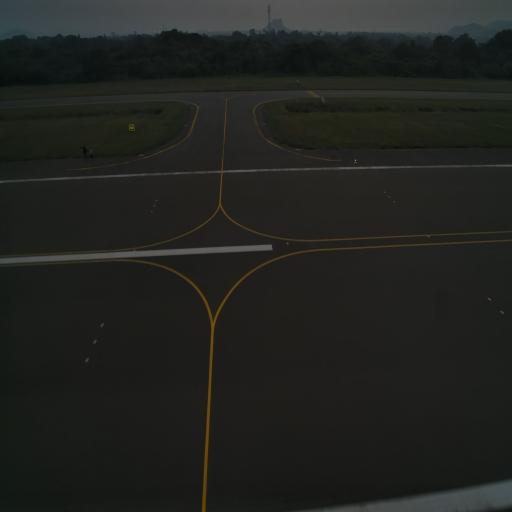off: (486, 292, 492, 305), (92, 336, 98, 347), (98, 320, 104, 331), (499, 307, 504, 319), (85, 356, 90, 366), (286, 239, 290, 247), (152, 202, 156, 208), (150, 208, 153, 215), (155, 197, 158, 204)
